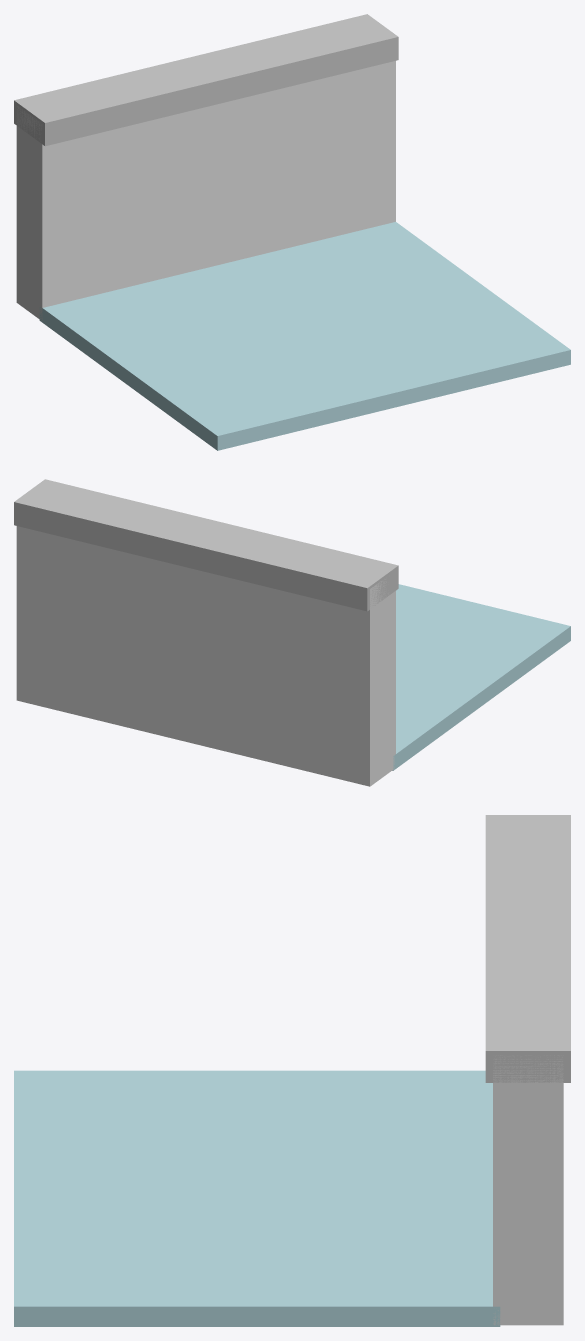
Rendered from props6.fbx.
3 views of the same model, one above another, from view 1: azimuth 30°, elevation 25°; view 2: azimuth 150°, elevation 25°; view 3: azimuth 270°, elevation 25° (orthographic). The views are drawn at different scales.
Parts seen in each view (by area): view 1: Cube; view 2: Cube; view 3: Cube.
Boxes of the visible parts, left/top/right/bottom form: Cube: left=14, top=14, right=570, bottom=450; Cube: left=14, top=479, right=570, bottom=786; Cube: left=14, top=815, right=570, bottom=1326.
Bounding box in the file's own units: 711 × 388 × 709.
